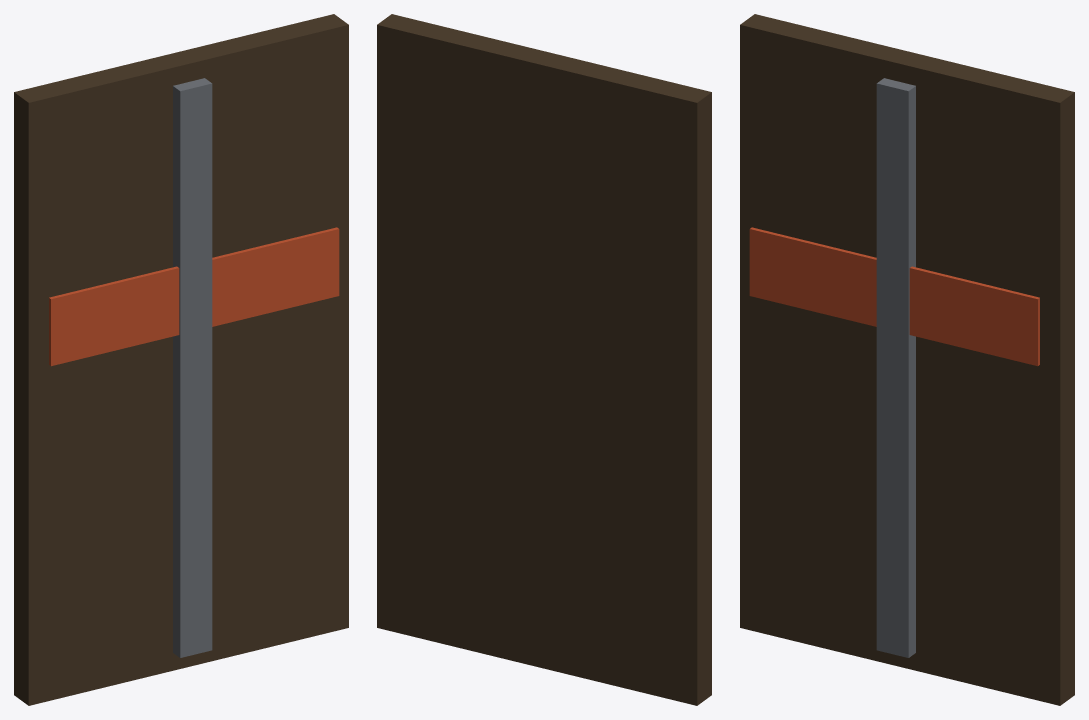
Rendered from PaviseShield.fbx.
The picture shows the model from 3 angles, left to right: view 1: azimuth 30°, elevation 25°; view 2: azimuth 150°, elevation 25°; view 3: azimuth 330°, elevation 25°; orthographic projection.
Visible parts, largest first — view 1: PaviseShield; view 2: PaviseShield; view 3: PaviseShield.
Part boxes in pixels (x1,y1,x2,y2): PaviseShield: (14,14,348,705); PaviseShield: (377,14,711,705); PaviseShield: (740,14,1074,705).
Bounding box in the file's own units: 50 × 90 × 6.
Materials: 3 (3 with a texture image).
